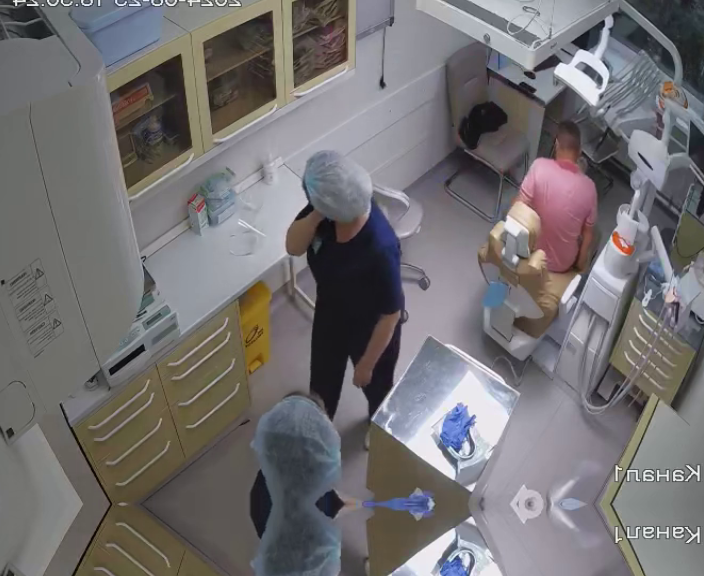Empty: (477, 202, 612, 360)
